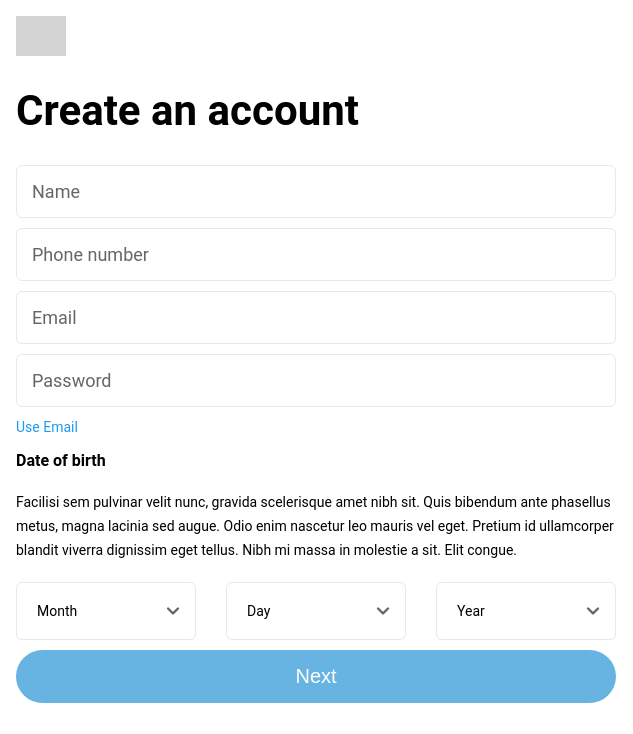
Scenario: signUp test › validate phone
Expected: the button "Next" is disabled, [16,650,616,703]
Type "testgmail.com" into the field named "phone" at (316,255), box [16,228,616,281]
Then press Enter
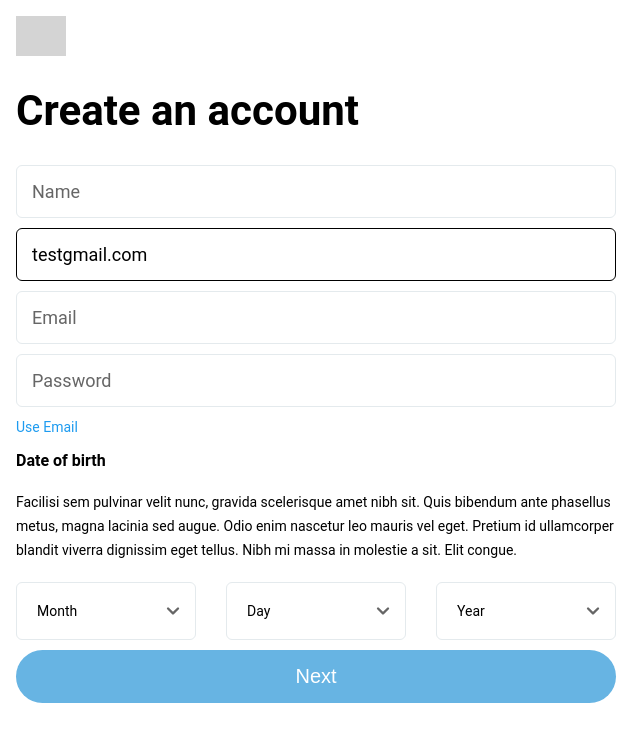
Focus the password field named "password" at (316,381), box [16,354,616,407]
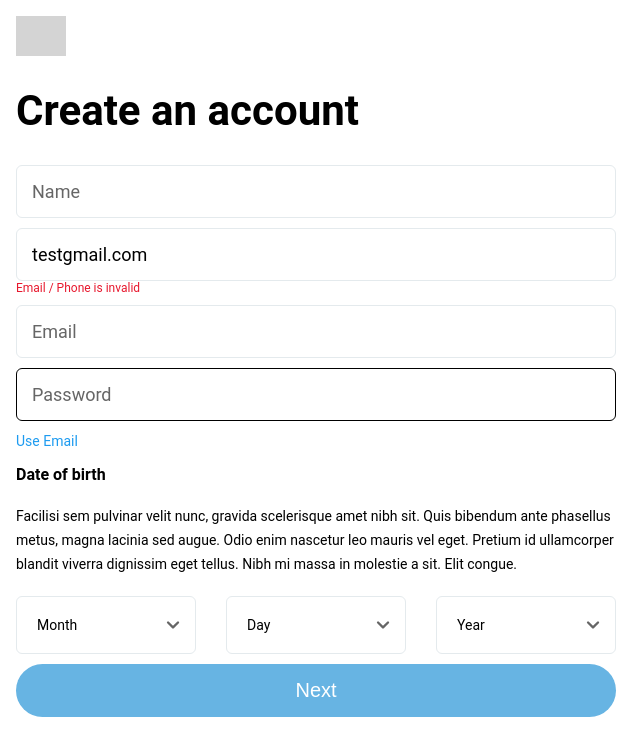
Expected: the button "Next" is disabled, [16,664,616,717]
Now the text "Phone is invalid" is shown, box [16,281,140,295]
